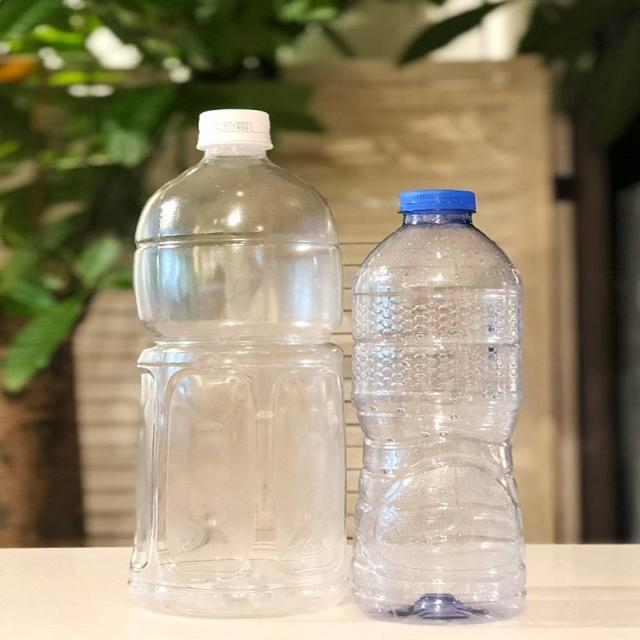plastic: (124, 106, 342, 620), (346, 188, 531, 623)
